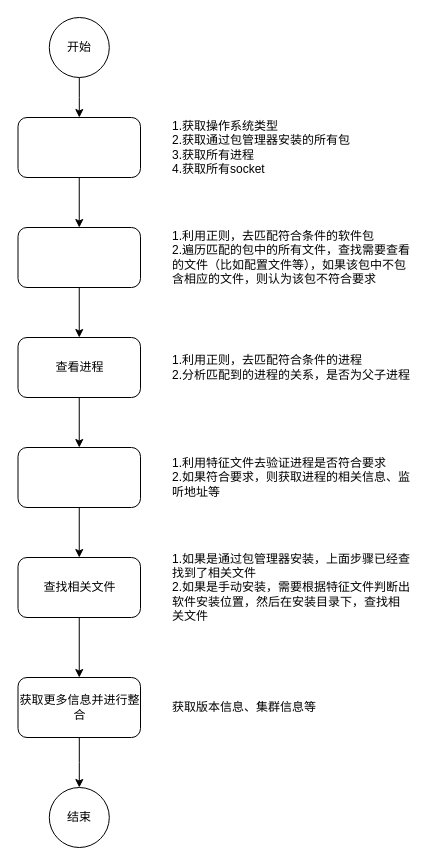
This 427x865 diagram has some shape labels left out. The shapes that lost their labels are listed below. From the top down, each one's centre as x and y in pixels, then its label:
the point at 78,147: 初始化
the point at 78,257: 在包管理器中查找软件
the point at 78,477: 验证进程
